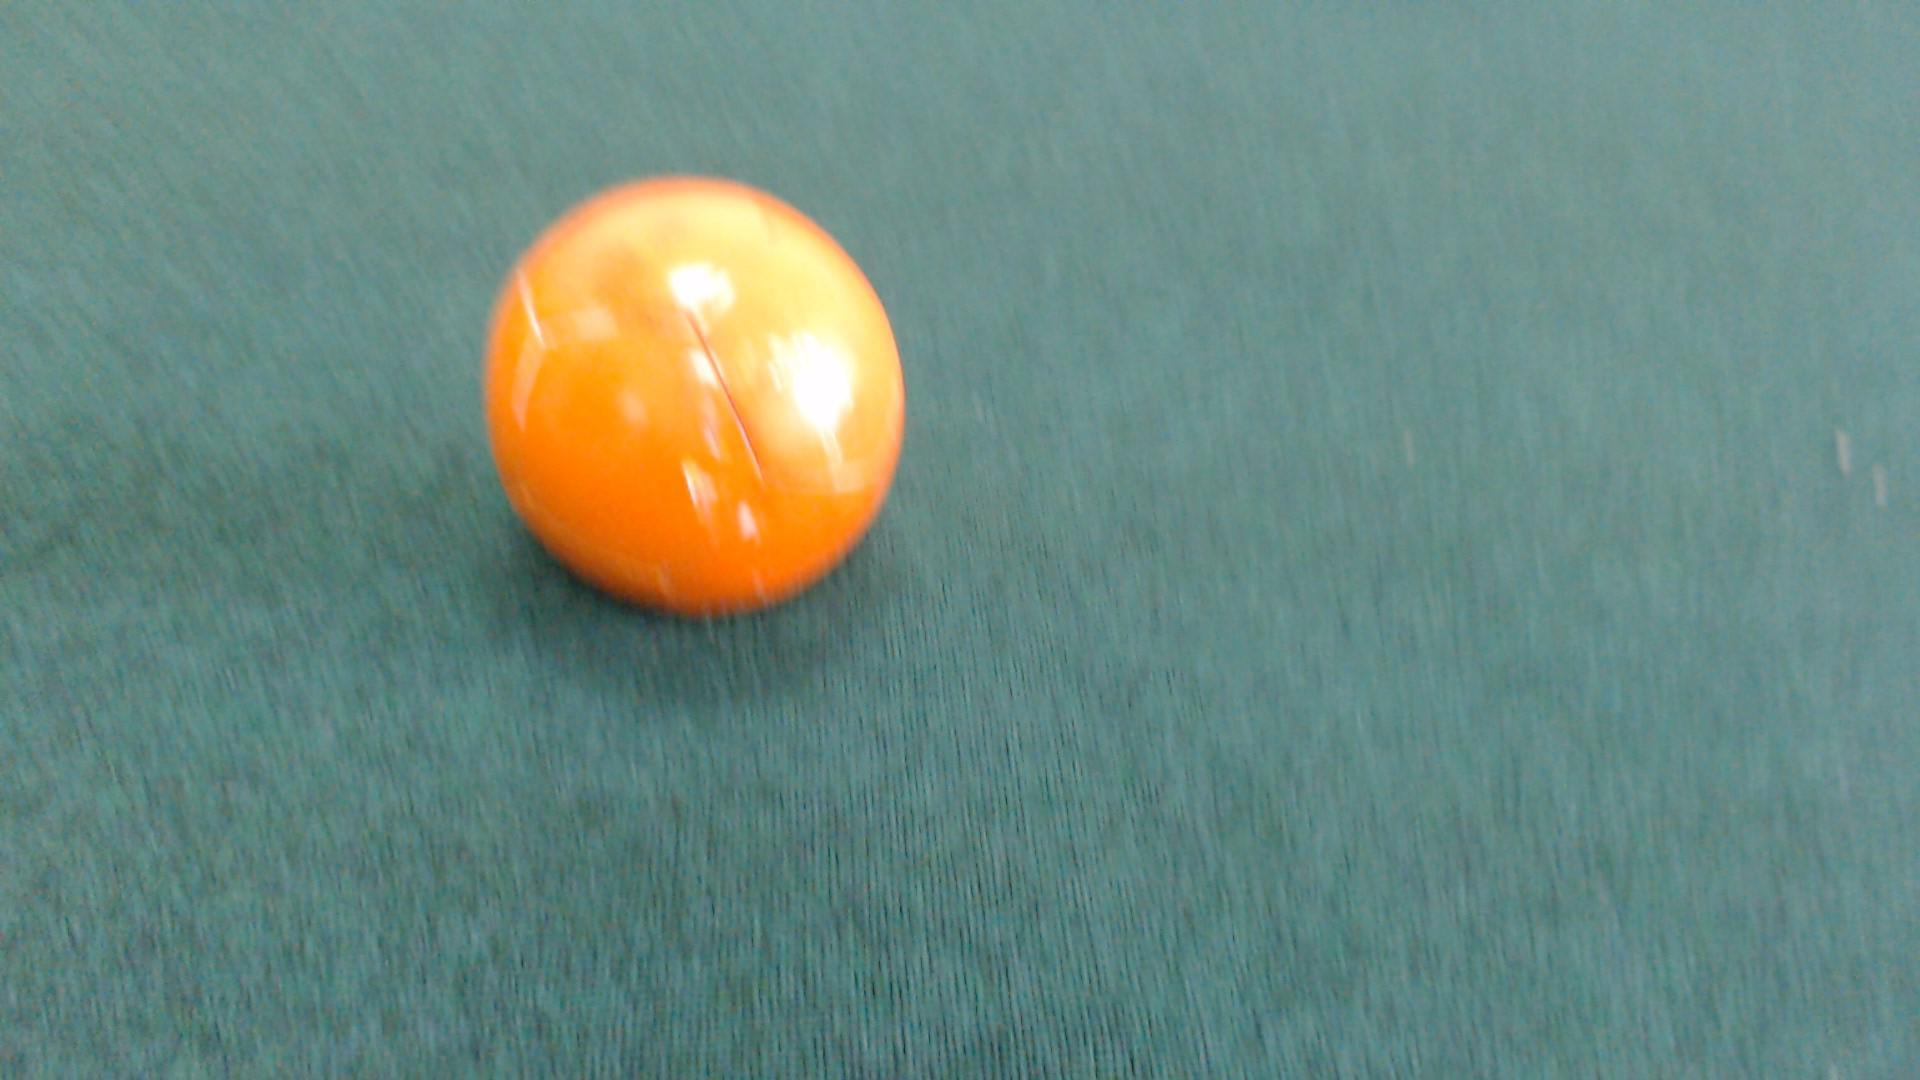bola: (447, 169, 930, 622)
